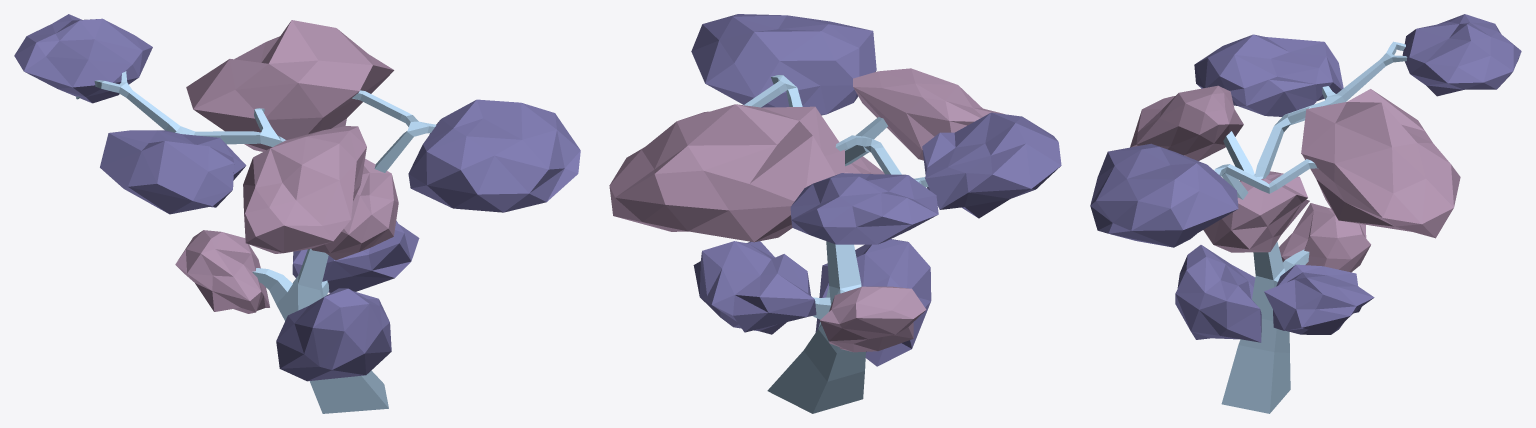
The model's file is arbol01.fbx.
The picture shows the model from 3 angles, left to right: view 1: azimuth 30°, elevation 25°; view 2: azimuth 150°, elevation 25°; view 3: azimuth 270°, elevation 25°; orthographic projection. The views are drawn at different scales.
Visible parts, largest first — view 1: Arbol01 Hojas06, Arbol01 Hojas07, Arbol01 Hojas04, Arbol01, Arbol01 Hojas03, Arbol01 Hojas09, Arbol01 Hojas02, Arbol01 Hojas05, Arbol01 Hojas08, Arbol01 Hojas01; view 2: Arbol01 Hojas06, Arbol01 Hojas07, Arbol01 Hojas03, Arbol01, Arbol01 Hojas02, Arbol01 Hojas01, Arbol01 Hojas04, Arbol01 Hojas05, Arbol01 Hojas09, Arbol01 Hojas08; view 3: Arbol01 Hojas06, Arbol01 Hojas07, Arbol01, Arbol01 Hojas03, Arbol01 Hojas02, Arbol01 Hojas09, Arbol01 Hojas04, Arbol01 Hojas01, Arbol01 Hojas08, Arbol01 Hojas05.
Boxes of the visible parts, bbox=[...] form: Arbol01 Hojas06: bbox=[186, 20, 394, 151]; Arbol01 Hojas07: bbox=[408, 99, 580, 212]; Arbol01 Hojas04: bbox=[243, 126, 366, 253]; Arbol01: bbox=[76, 71, 436, 413]; Arbol01 Hojas03: bbox=[100, 130, 246, 214]; Arbol01 Hojas09: bbox=[276, 288, 391, 381]; Arbol01 Hojas02: bbox=[14, 14, 152, 103]; Arbol01 Hojas05: bbox=[175, 230, 269, 313]; Arbol01 Hojas08: bbox=[311, 158, 398, 260]; Arbol01 Hojas01: bbox=[292, 221, 419, 293]; Arbol01 Hojas06: bbox=[609, 104, 845, 242]; Arbol01 Hojas07: bbox=[691, 14, 876, 115]; Arbol01 Hojas03: bbox=[922, 112, 1061, 218]; Arbol01: bbox=[744, 75, 928, 413]; Arbol01 Hojas02: bbox=[790, 173, 938, 244]; Arbol01 Hojas01: bbox=[693, 241, 816, 334]; Arbol01 Hojas04: bbox=[853, 68, 1004, 160]; Arbol01 Hojas05: bbox=[820, 286, 926, 352]; Arbol01 Hojas09: bbox=[815, 239, 931, 366]; Arbol01 Hojas08: bbox=[845, 156, 884, 174]; Arbol01 Hojas06: bbox=[1301, 89, 1460, 238]; Arbol01 Hojas07: bbox=[1090, 143, 1238, 247]; Arbol01: bbox=[1214, 41, 1407, 413]; Arbol01 Hojas03: bbox=[1194, 34, 1343, 116]; Arbol01 Hojas02: bbox=[1402, 14, 1521, 96]; Arbol01 Hojas09: bbox=[1175, 245, 1261, 342]; Arbol01 Hojas04: bbox=[1130, 85, 1243, 160]; Arbol01 Hojas01: bbox=[1264, 264, 1374, 334]; Arbol01 Hojas08: bbox=[1203, 171, 1309, 252]; Arbol01 Hojas05: bbox=[1279, 203, 1370, 272].
Bounding box in the file's own units: 1074 × 876 × 1131.
